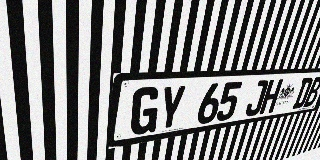5: (215, 81, 243, 122)
6: (196, 83, 224, 125)
B: (303, 77, 320, 107)
D: (292, 77, 314, 109)
G: (129, 86, 162, 136)
H: (259, 79, 283, 115)
J: (244, 80, 269, 117)
Y: (156, 85, 187, 132)
